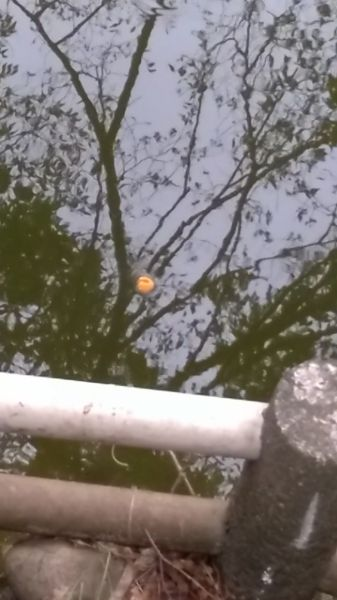eggs: (129, 273, 160, 296)
